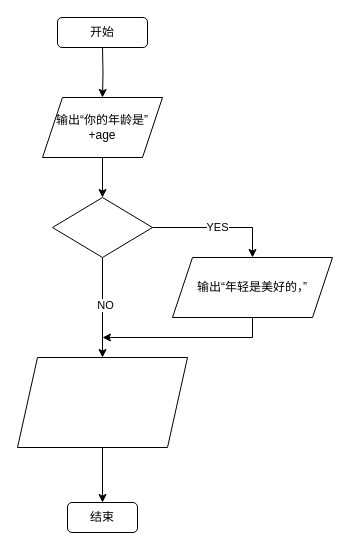
Image size: 350x550. Some labels were removed from this diagram. The centre of each missing label's shape, as x and y in pixels:
"age<MINOR?" belongs at pixel 102 227.
"输出“年龄决定了你的精神境界，好好珍惜吧。”" belongs at pixel 102 402.
